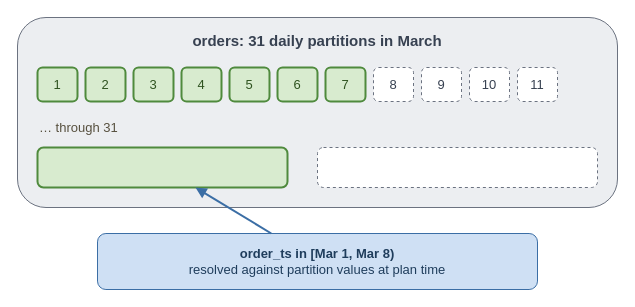
Some shapes in this 635 by 307 pixel diagram are drawn without their labels. The centre of each missing label's shape, as x and y in pixels:
"read: 7 partitions" goes at point (162, 167).
"skipped: 24, no file opened" goes at point (457, 167).
